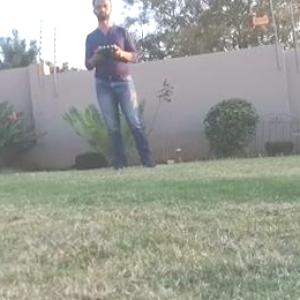follow: (81, 0, 163, 176)
